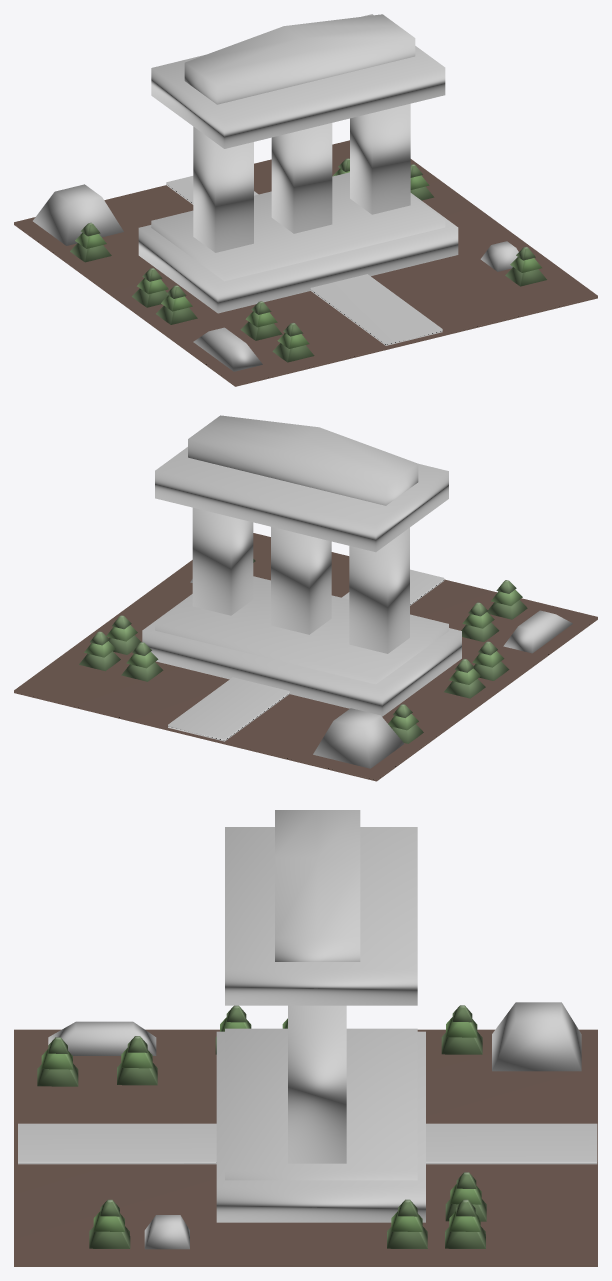
Rendered from Temple.fbx.
The picture shows the model from 3 angles, top to bottom: view 1: azimuth 30°, elevation 25°; view 2: azimuth 150°, elevation 25°; view 3: azimuth 270°, elevation 25°; orthographic projection. The views are drawn at different scales.
Visible parts, largest first — view 1: Cube_001, Cube_000, Cube, Rock_001, Rock_003, Tree_004, Tree_002, Tree_008, Tree_003, Tree_001, Tree_000, Rock_000 (+1 smaller); view 2: Cube_001, Cube_000, Cube, Rock_001, Rock_003, Tree_005, Tree_000, Tree_007, Tree_004, Tree_001, Tree_002, Tree_006 (+1 smaller); view 3: Cube_001, Cube_000, Cube, Rock_001, Rock_003, Tree_004, Tree_008, Tree_001, Tree_003, Tree_007, Tree_006, Rock_000 (+1 smaller).
Part boxes in pixels (left/top/right/bottom): Cube_001: left=138, top=14, right=458, bottom=313; Cube_000: left=14, top=140, right=597, bottom=386; Cube: left=166, top=176, right=442, bottom=345; Rock_001: left=33, top=184, right=123, bottom=245; Rock_003: left=193, top=327, right=262, bottom=371; Tree_004: left=272, top=322, right=314, bottom=362; Tree_002: left=156, top=285, right=197, bottom=324; Tree_008: left=70, top=222, right=111, bottom=262; Tree_003: left=505, top=246, right=546, bottom=286; Tree_001: left=240, top=301, right=282, bottom=340; Tree_000: left=132, top=268, right=168, bottom=307; Rock_000: left=480, top=241, right=518, bottom=271; Cube_001: left=142, top=415, right=461, bottom=716; Cube_000: left=14, top=533, right=597, bottom=781; Cube: left=168, top=569, right=444, bottom=741; Rock_001: left=313, top=708, right=404, bottom=768; Rock_003: left=503, top=610, right=572, bottom=653; Tree_005: left=121, top=642, right=163, bottom=681; Tree_000: left=444, top=658, right=485, bottom=698; Tree_007: left=79, top=631, right=120, bottom=671; Tree_004: left=487, top=580, right=527, bottom=619; Tree_001: left=461, top=602, right=499, bottom=641; Tree_002: left=472, top=641, right=509, bottom=680; Tree_006: left=106, top=615, right=140, bottom=654; Cube_001: left=216, top=810, right=425, bottom=1222; Cube_000: left=14, top=1029, right=597, bottom=1266; Cube: left=18, top=1123, right=597, bottom=1164; Rock_001: left=492, top=1002, right=581, bottom=1071; Rock_003: left=48, top=1021, right=156, bottom=1055; Tree_004: left=37, top=1037, right=78, bottom=1086; Tree_008: left=441, top=1005, right=482, bottom=1054; Tree_001: left=117, top=1036, right=157, bottom=1085; Tree_003: left=89, top=1199, right=130, bottom=1248; Tree_007: left=445, top=1199, right=485, bottom=1248; Tree_006: left=387, top=1199, right=427, bottom=1248; Rock_000: left=144, top=1215, right=189, bottom=1249.
Size of the model in its own units: 12.76 by 7.42 by 13.49.
